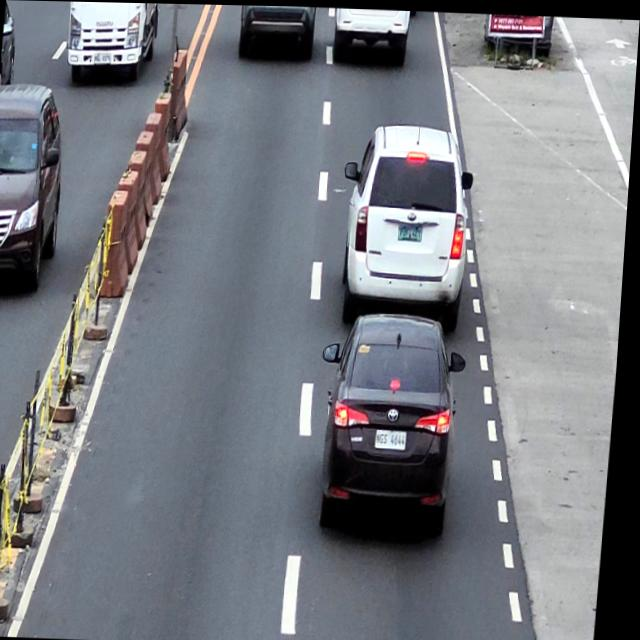Car: (315, 310, 474, 540), (336, 120, 480, 331), (0, 81, 70, 294)
License-Plate: (380, 427, 412, 449), (400, 221, 426, 239), (93, 51, 112, 64)
Truck: (64, 1, 159, 84)
